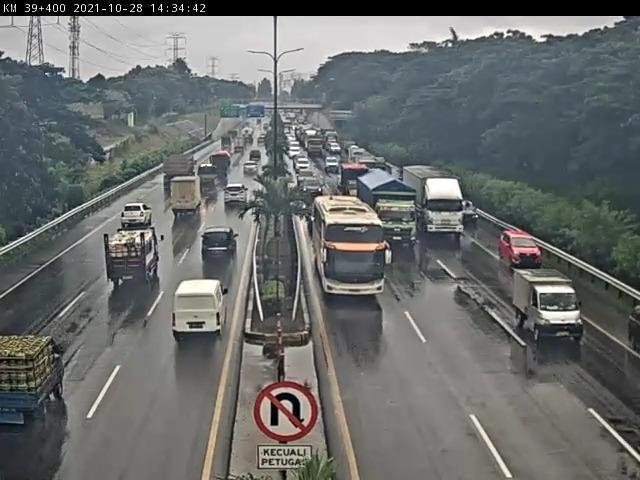bus: (316, 205, 392, 298)
car: (4, 330, 75, 433), (100, 224, 178, 303), (508, 272, 588, 348), (166, 268, 233, 358), (184, 227, 248, 292), (107, 194, 152, 248), (497, 229, 550, 273), (214, 173, 252, 221), (619, 292, 640, 355), (459, 203, 491, 236)
truck: (369, 175, 417, 249), (420, 172, 466, 243), (161, 170, 206, 221)
